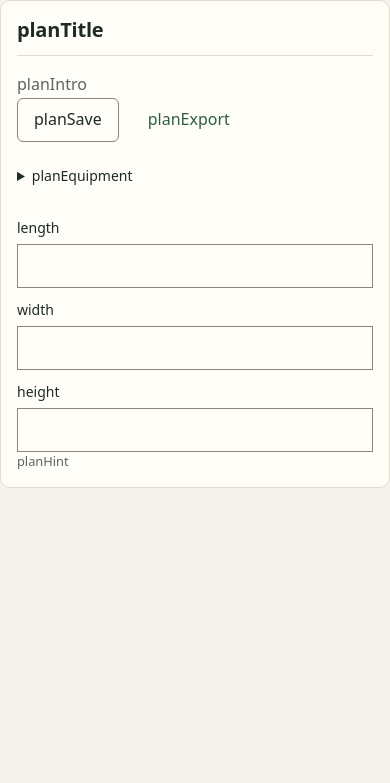
HabitatPlan › montre les deux vues après trois mesures puis retire le plan si une mesure est effacée
Type "100" into the number field labelled "length". click: (195, 266)
box: x1=17 y1=244 x2=373 y2=288
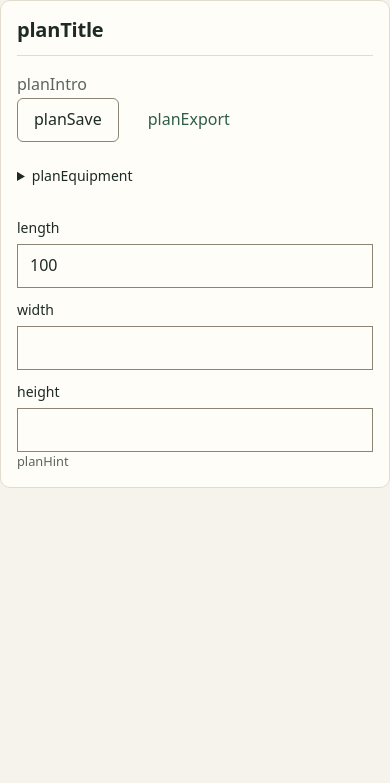
Type "40" into the number field labelled "width". click: (195, 348)
box: x1=17 y1=326 x2=373 y2=370
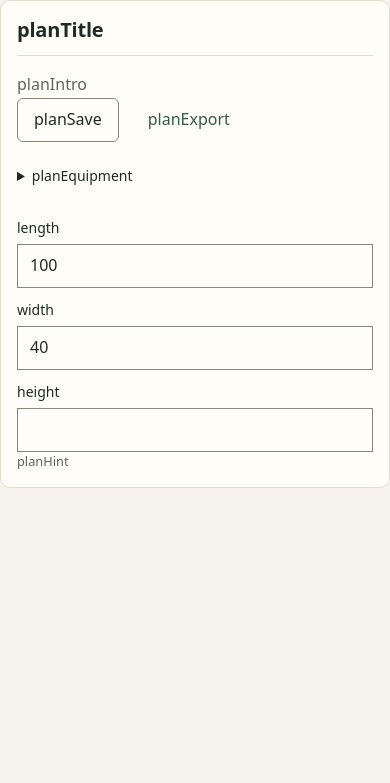
Type "50" into the number field labelled "height". click: (195, 430)
box: x1=17 y1=408 x2=373 y2=452
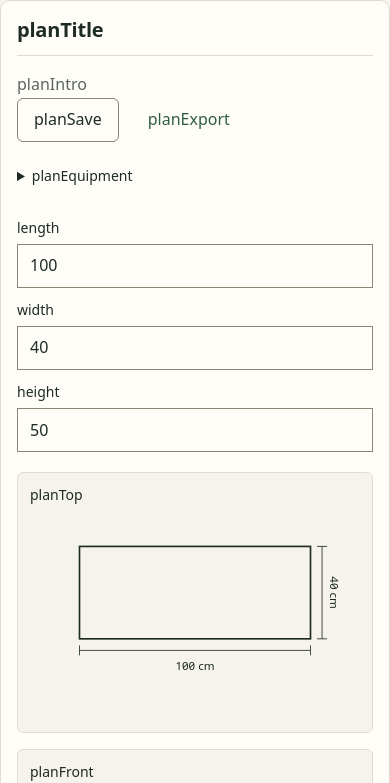
expect the picture named "planTop" is shown: met, box x1=30 y1=506 x2=360 y2=720
Clear the number field labelled "height". click: (195, 430)
box: x1=17 y1=408 x2=373 y2=452
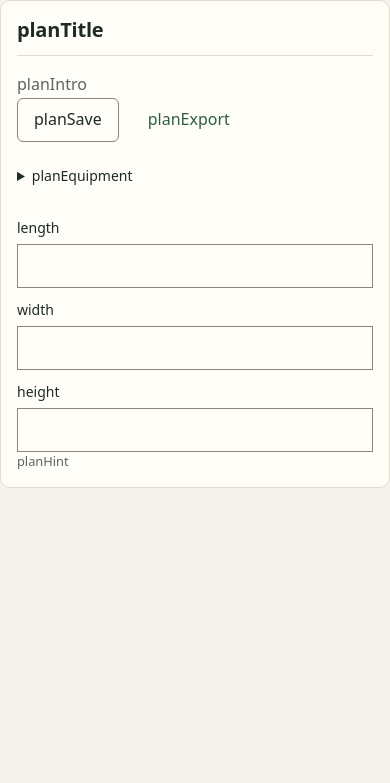
expect the picture is gone: met
